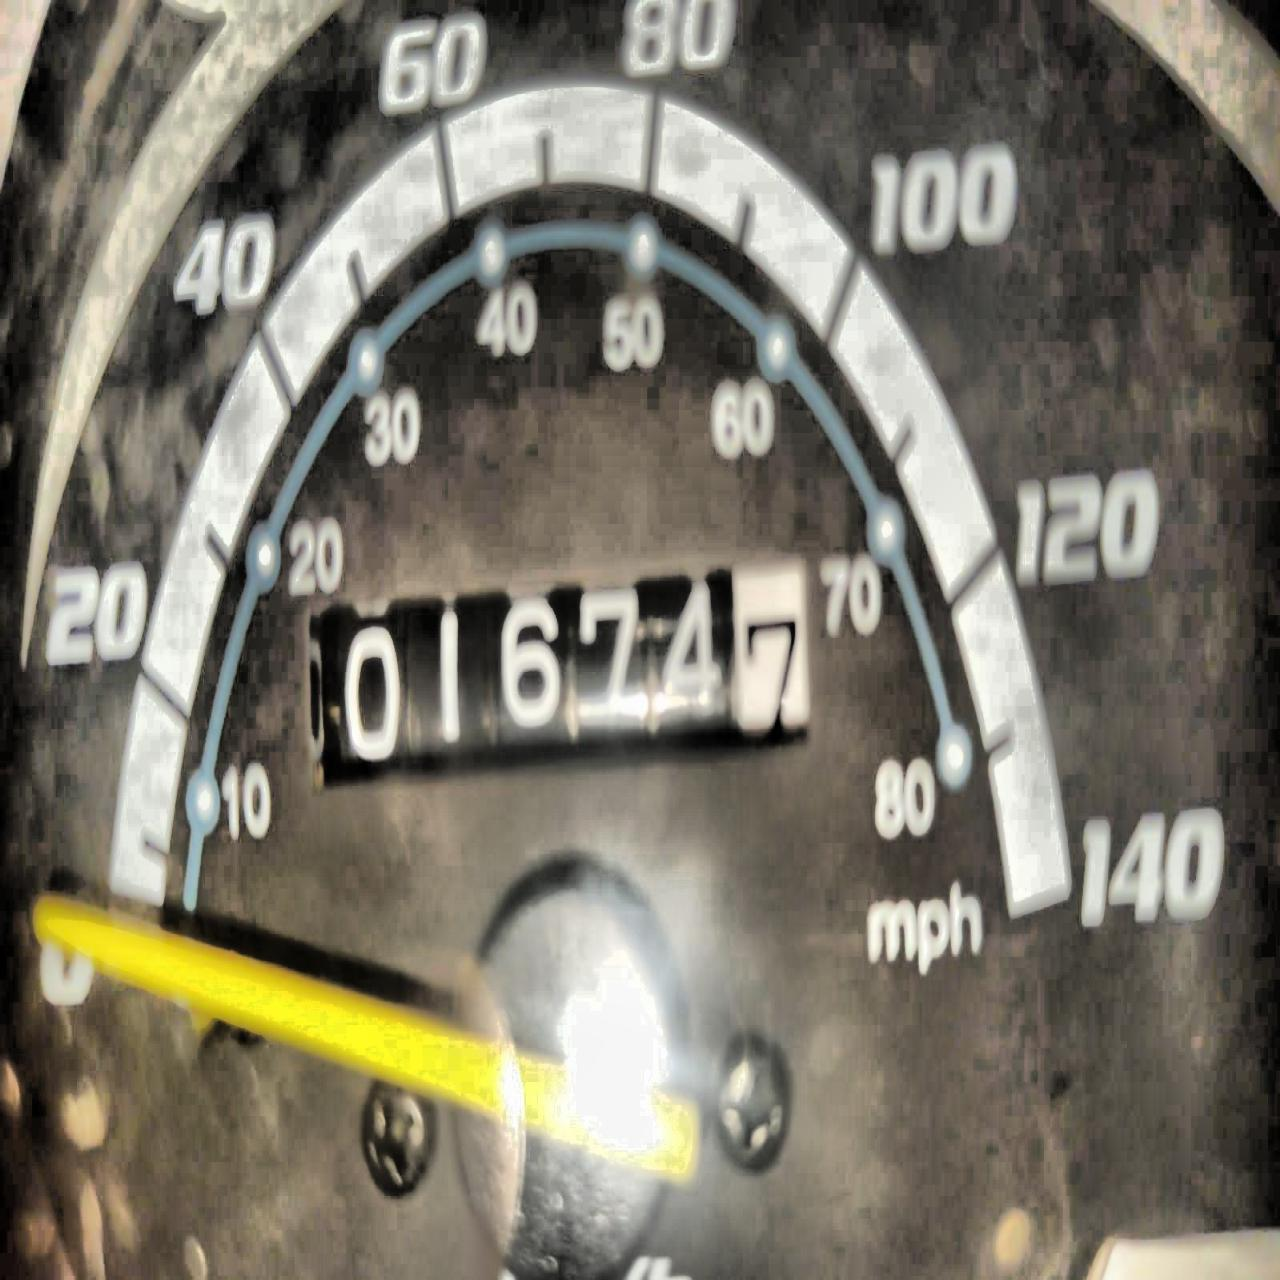0: (332, 607, 406, 768)
1: (424, 585, 469, 757)
4: (655, 571, 726, 743)
6: (497, 581, 564, 745)
7: (578, 584, 640, 737), (741, 601, 799, 761)
odometer: (305, 561, 819, 799)
